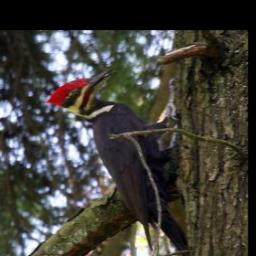Woodpecker: (46, 68, 194, 256)
